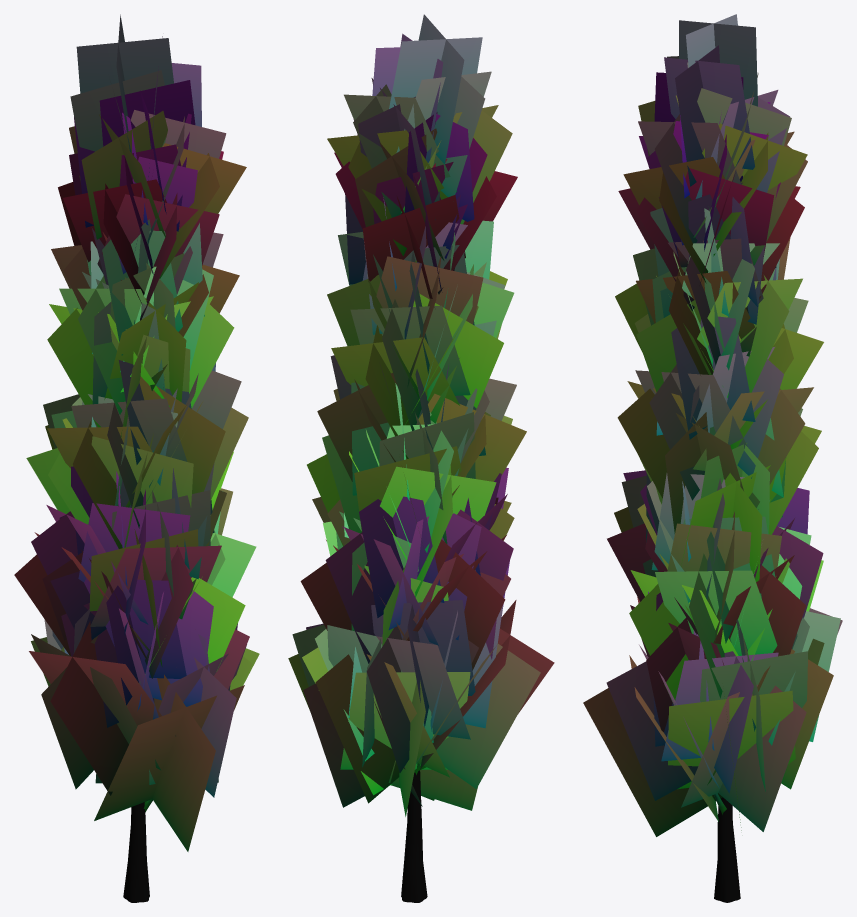
The model's file is Tree_6_2.fbx.
The picture shows the model from 3 angles, left to right: view 1: azimuth 30°, elevation 25°; view 2: azimuth 150°, elevation 25°; view 3: azimuth 270°, elevation 25°; orthographic projection.
Parts seen in each view (by area): view 1: _2; view 2: _2; view 3: _2.
Part boxes in pixels (x1,y1,x2,y2): _2: [14, 14, 259, 902]; _2: [288, 14, 554, 902]; _2: [583, 14, 842, 902].
Bounding box in the file's own units: 500 × 1749 × 474.
